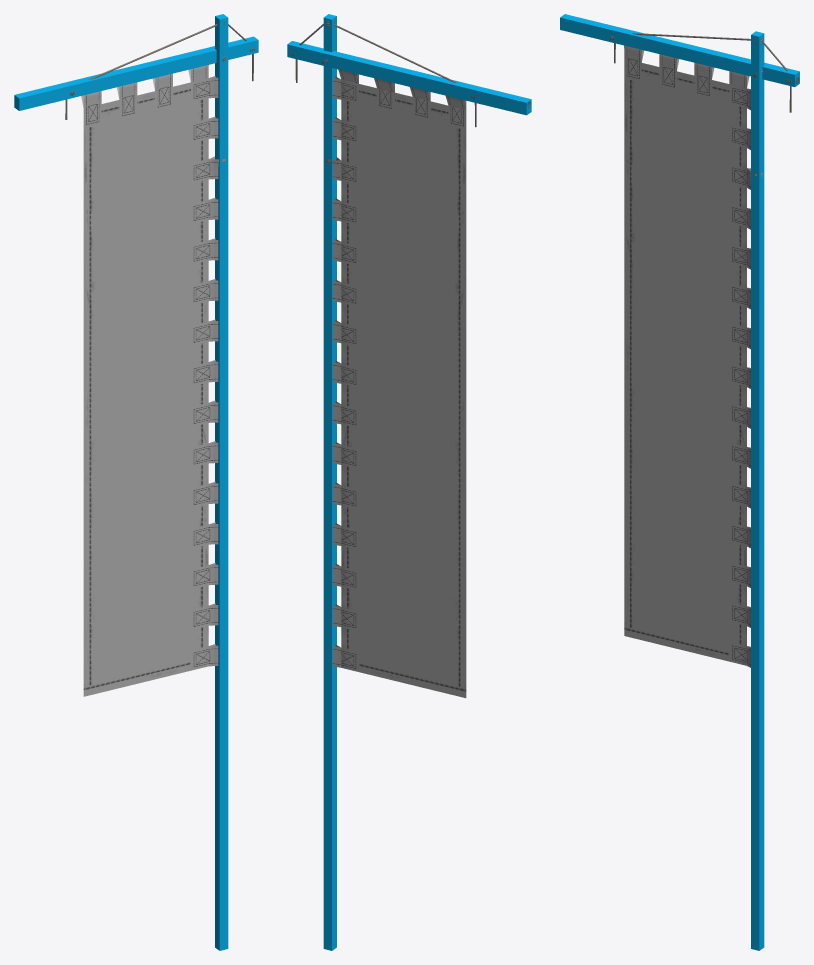
The model's file is JWC_Flag_Sashimono_01.fbx.
3 renders of one model, left to right at view 1: azimuth 30°, elevation 25°; view 2: azimuth 150°, elevation 25°; view 3: azimuth 330°, elevation 25°, orthographic.
Parts seen in each view (by area): view 1: JWC_Flag_Sashimono_01, C_JWC_Flag_Sashimono_01_001, C_JWC_Flag_Sashimono_01; view 2: JWC_Flag_Sashimono_01, C_JWC_Flag_Sashimono_01_001, C_JWC_Flag_Sashimono_01; view 3: JWC_Flag_Sashimono_01, C_JWC_Flag_Sashimono_01_001, C_JWC_Flag_Sashimono_01.
Part boxes in pixels (x1,y1,x2,y2): JWC_Flag_Sashimono_01: [65, 20, 254, 696]; C_JWC_Flag_Sashimono_01_001: [215, 14, 228, 950]; C_JWC_Flag_Sashimono_01: [14, 36, 258, 110]; JWC_Flag_Sashimono_01: [291, 20, 530, 698]; C_JWC_Flag_Sashimono_01_001: [323, 14, 336, 950]; C_JWC_Flag_Sashimono_01: [287, 41, 531, 115]; JWC_Flag_Sashimono_01: [610, 33, 799, 667]; C_JWC_Flag_Sashimono_01_001: [751, 31, 764, 950]; C_JWC_Flag_Sashimono_01: [560, 14, 799, 86].
Size of the model in its own units: 0.7953 by 2.96 by 0.0507.
